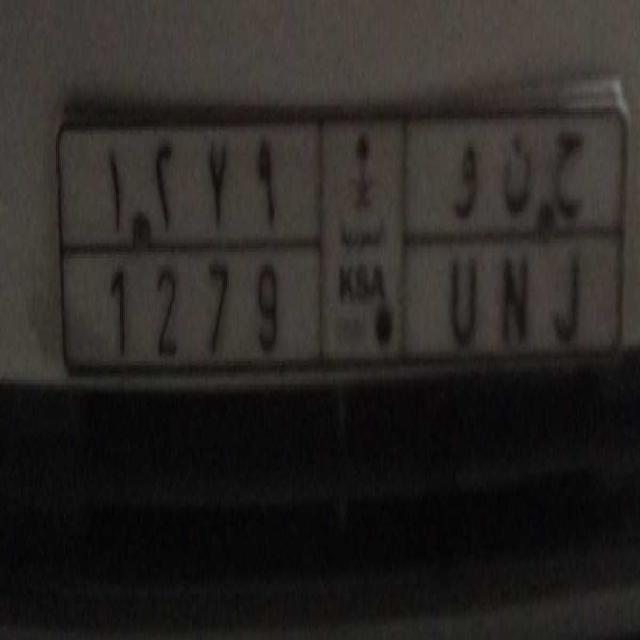license_plate: (90, 231, 596, 383)
